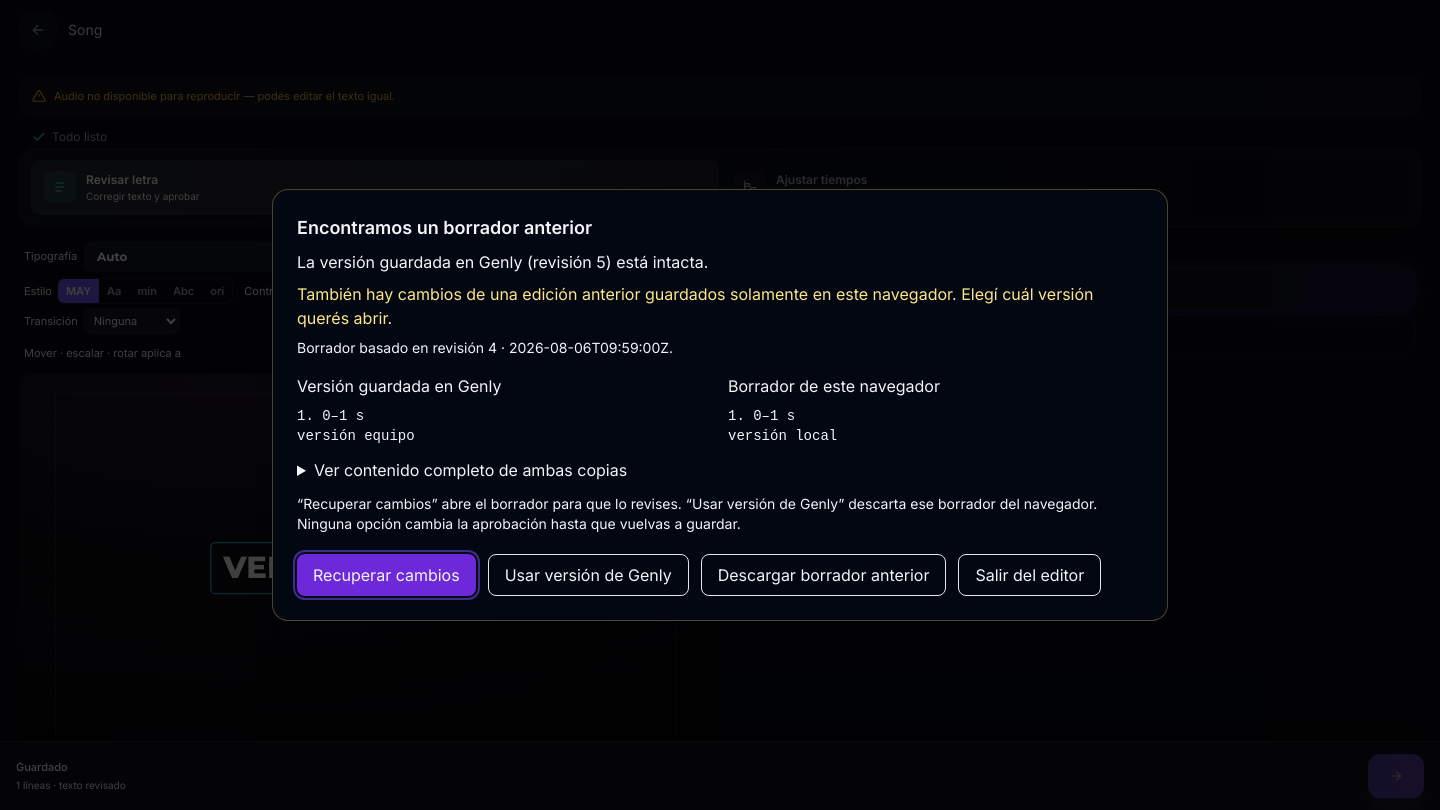
local recovery is separate from server save status › compares differences and discards only by explicit choice without reopening approval
Expected: the dialog "Encontramos un borrador anterior" shows "versión local", [728,408,837,444]
Expected: the dialog "Encontramos un borrador anterior" shows "versión equipo", [297,408,415,444]
Click the button "Usar versión de Genly" at (588, 575), box [488,554,689,596]
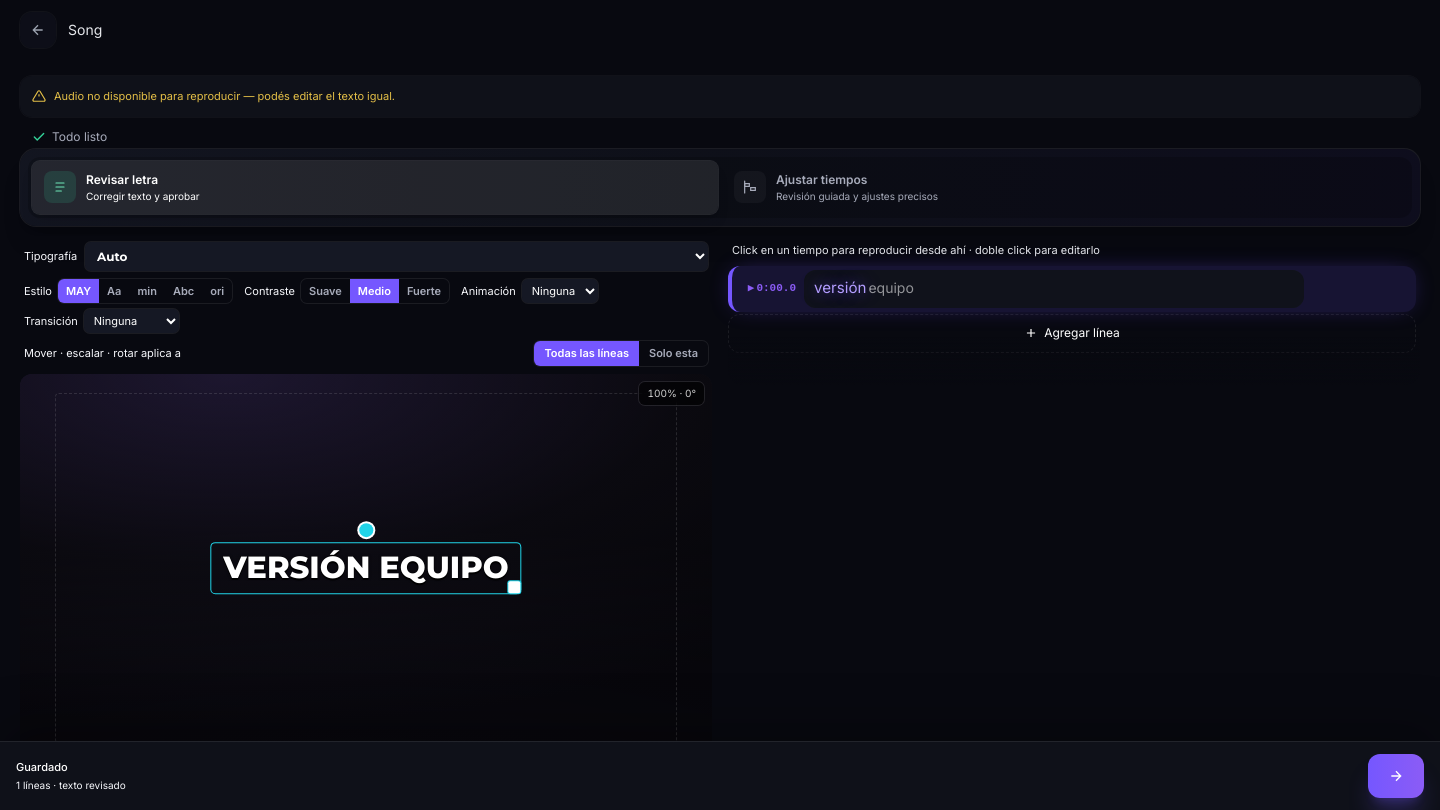
Expected: the field showing "versión equipo" is shown, [804,270,1304,308]
Now the heading "Encontramos un borrador anterior" is gone
